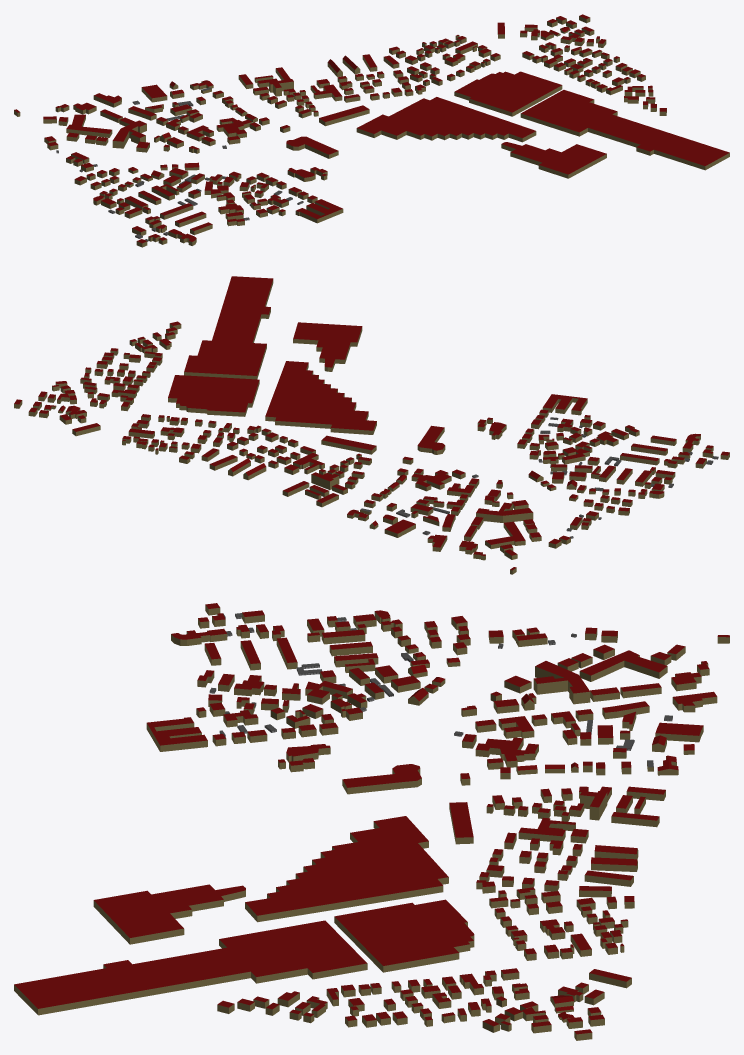
Rendered from Ingolstadt_Tile_7_6.obj.
3 renders of one model, top to bottom at view 1: azimuth 30°, elevation 25°; view 2: azimuth 150°, elevation 25°; view 3: azimuth 270°, elevation 25°, orthographic. The views are drawn at different scales.
Visible parts, largest first — view 1: Building Staudinger, Building312, Building66, Building266, Building36, Building126, Building119, Building132, Building224; view 2: Building Staudinger, Building312, Building66, Building266, Building126, Building36, Building119, Building132, Building224; view 3: Building Staudinger, Building312, Building66, Building266, Building36, Building126, Building119, Building132, Building213, Building224, Building118, Building165.
Part boxes in pixels (bbox=[...]): Building Staudinger: bbox=[520, 90, 729, 170]; Building312: bbox=[356, 97, 536, 142]; Building66: bbox=[454, 71, 562, 116]; Building266: bbox=[501, 142, 606, 178]; Building36: bbox=[295, 199, 343, 223]; Building126: bbox=[112, 120, 146, 148]; Building119: bbox=[286, 136, 338, 158]; Building132: bbox=[66, 114, 112, 137]; Building224: bbox=[319, 105, 369, 126]; Building Staudinger: bbox=[184, 276, 273, 379]; Building312: bbox=[265, 361, 376, 434]; Building66: bbox=[168, 375, 259, 416]; Building266: bbox=[293, 322, 362, 371]; Building126: bbox=[476, 502, 533, 522]; Building36: bbox=[542, 394, 587, 415]; Building119: bbox=[417, 425, 445, 454]; Building132: bbox=[485, 521, 525, 549]; Building224: bbox=[321, 435, 376, 454]; Building Staudinger: bbox=[14, 920, 367, 1015]; Building312: bbox=[245, 816, 448, 922]; Building66: bbox=[334, 899, 474, 972]; Building266: bbox=[93, 884, 245, 944]; Building36: bbox=[146, 717, 207, 751]; Building126: bbox=[533, 661, 590, 704]; Building119: bbox=[342, 764, 421, 794]; Building132: bbox=[579, 650, 667, 681]; Building213: bbox=[518, 817, 575, 841]; Building224: bbox=[449, 802, 473, 844]; Building118: bbox=[305, 681, 352, 704]; Building165: bbox=[171, 628, 227, 645].
Size of the model in its own units: 1063 by 15 by 745.
